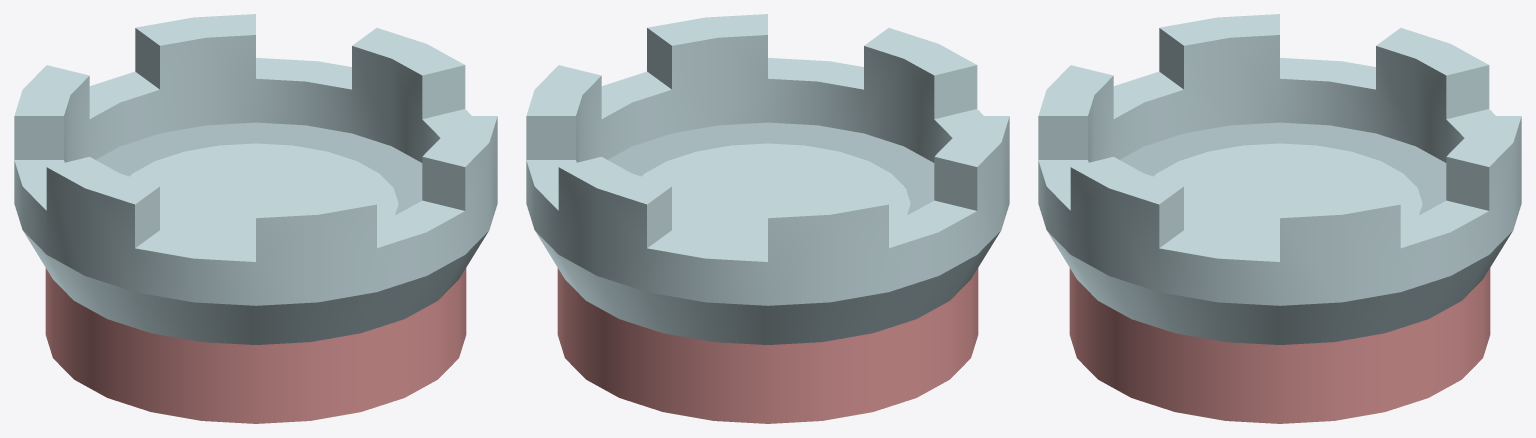
The model's file is towerRound_topB.glb.
3 views of the same model, side by side, from view 1: azimuth 30°, elevation 25°; view 2: azimuth 150°, elevation 25°; view 3: azimuth 270°, elevation 25° (orthographic).
Visible parts, largest first — view 1: towerRound_topB; view 2: towerRound_topB; view 3: towerRound_topB.
Part boxes in pixels (bbox=[...]): towerRound_topB: bbox=[14, 14, 497, 423]; towerRound_topB: bbox=[526, 14, 1009, 423]; towerRound_topB: bbox=[1038, 14, 1521, 423].
Bounding box in the file's own units: 1 × 0.5 × 1.
